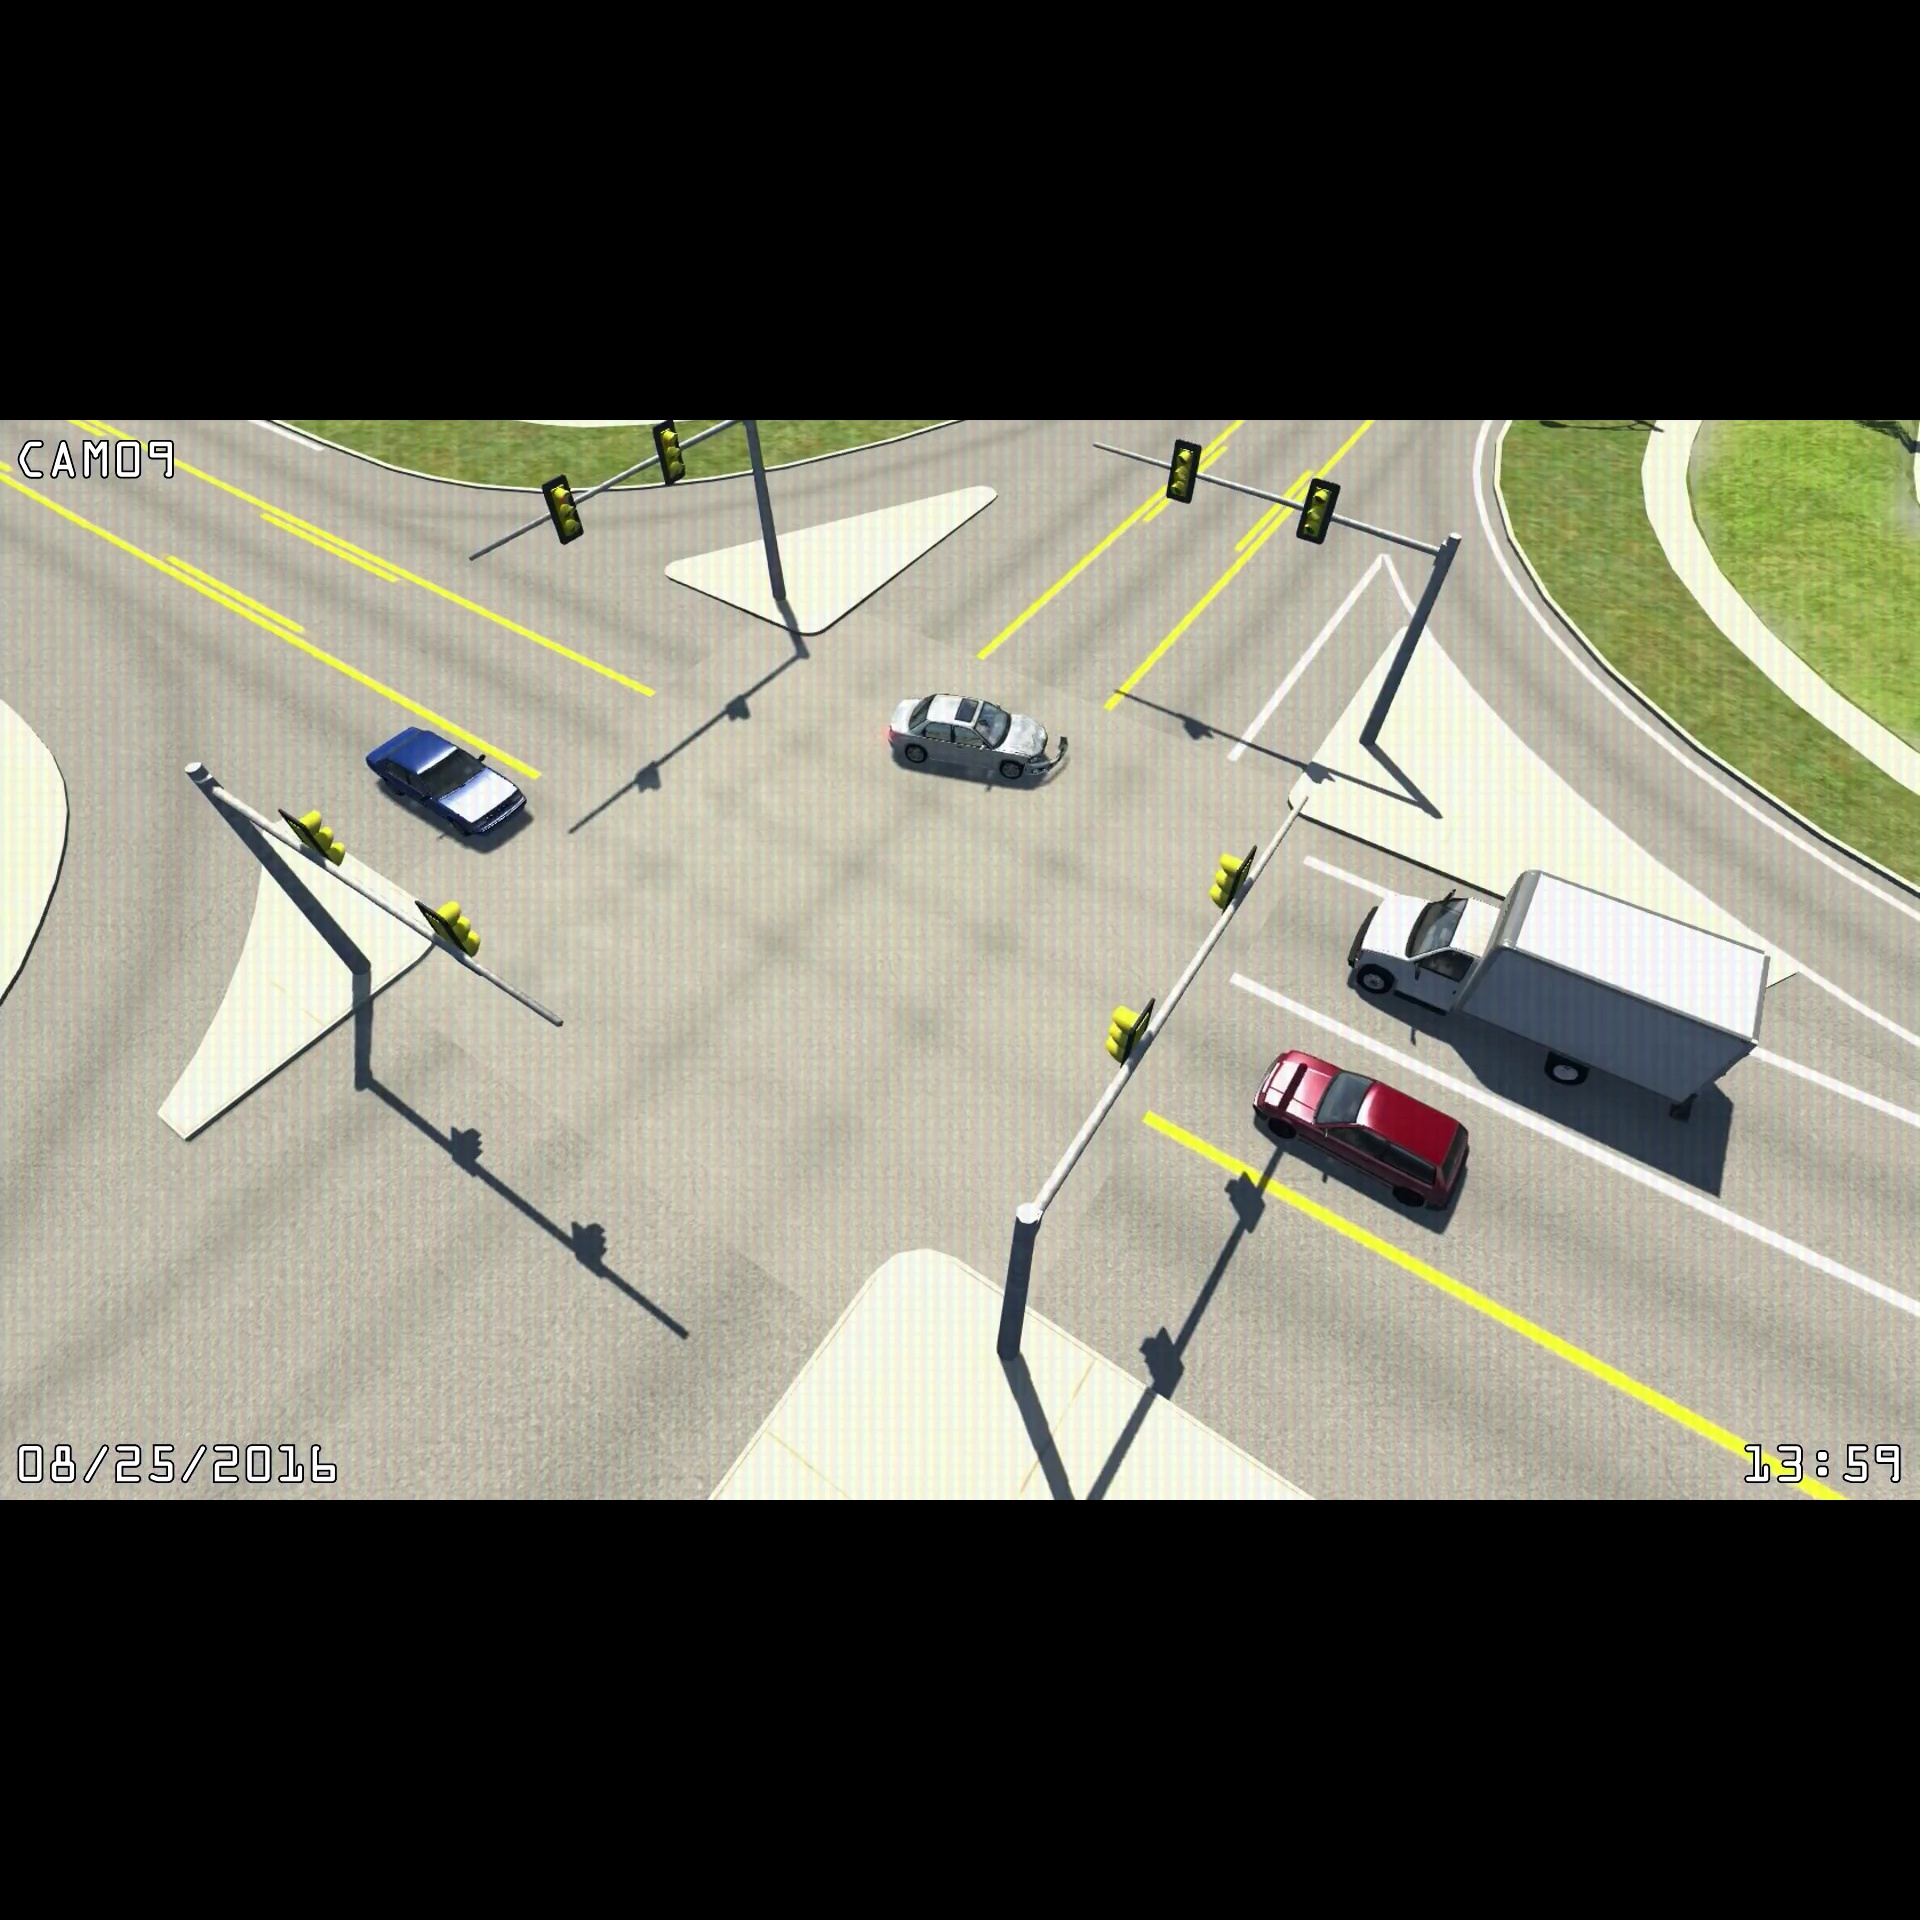vehicle: (1340, 863, 1785, 1122), (1241, 1043, 1475, 1217), (360, 716, 536, 853), (884, 689, 1073, 789)
